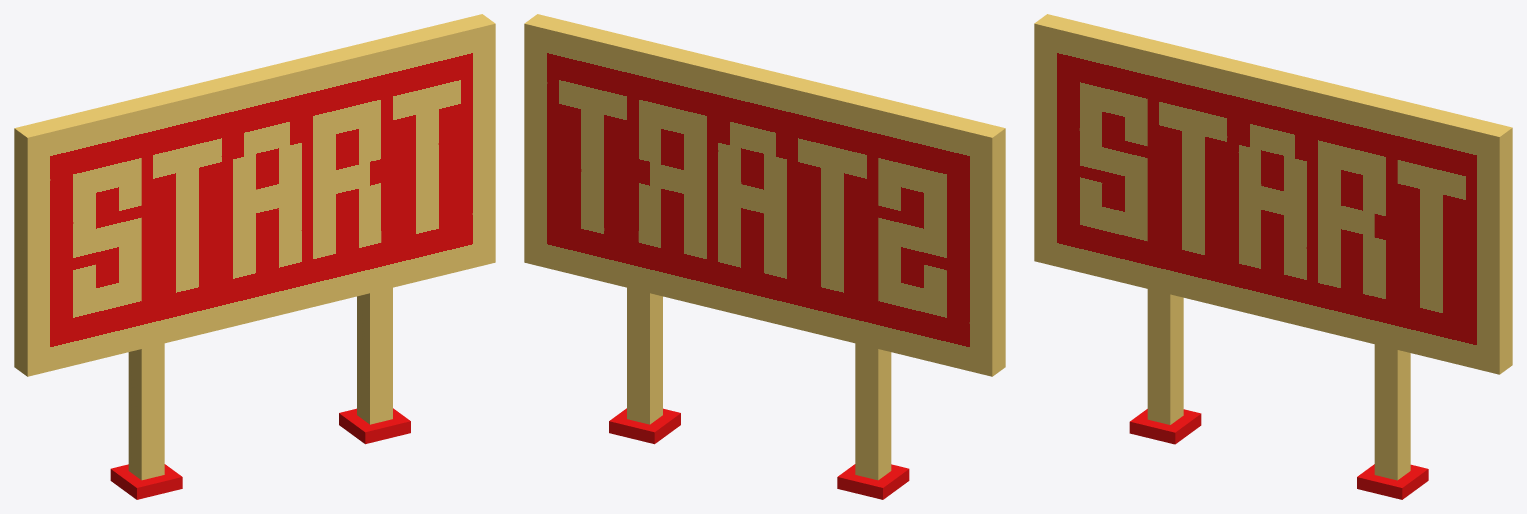
The model's file is Start_btn_02.dae.
3 views of the same model, side by side, from view 1: azimuth 30°, elevation 25°; view 2: azimuth 150°, elevation 25°; view 3: azimuth 330°, elevation 25° (orthographic).
Visible parts, largest first — view 1: Box_28; view 2: Box_28; view 3: Box_28.
Boxes of the visible parts, x1=… form: Box_28: x1=14, y1=14, x2=495, y2=499; Box_28: x1=524, y1=14, x2=1005, y2=499; Box_28: x1=1034, y1=14, x2=1512, y2=499.
Bounding box in the file's own units: 41 × 32 × 4.
